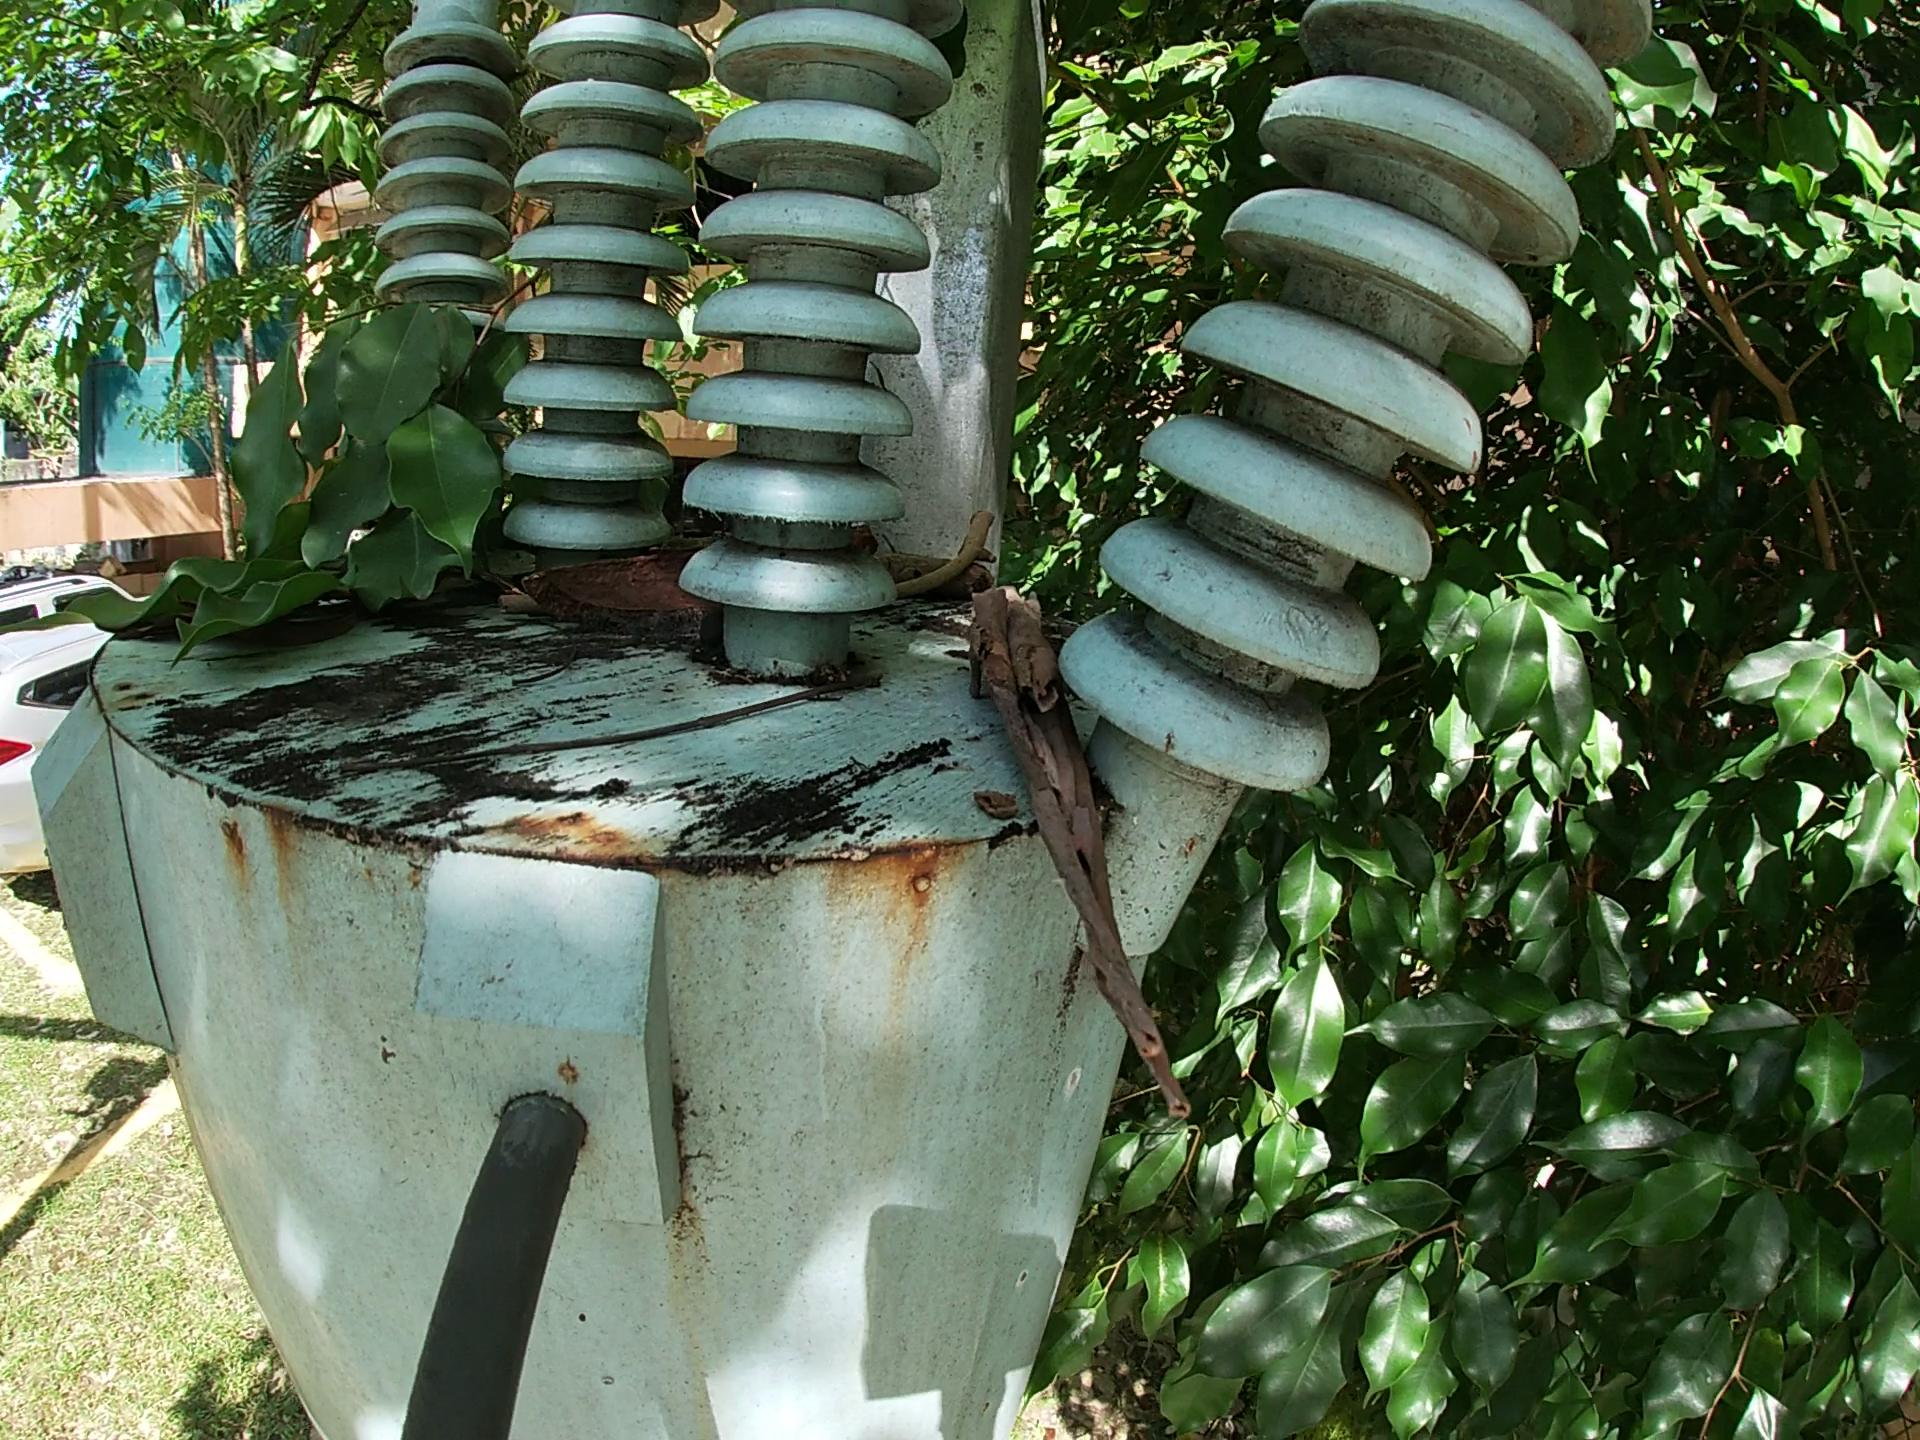branch with leaves: (32, 237, 555, 681)
mahogany fruit: (519, 561, 709, 625)
tree branch: (966, 575, 1200, 1119), (330, 679, 881, 790), (877, 511, 1005, 616), (865, 540, 992, 579)
